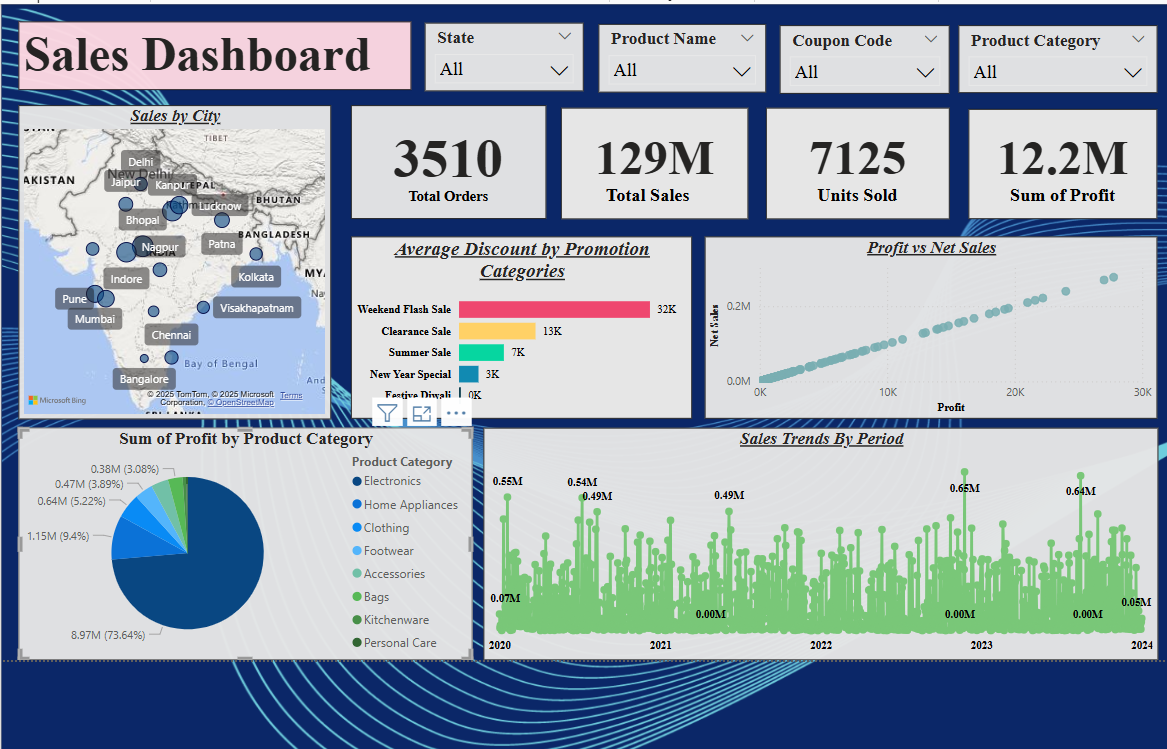

The page's visual inventory and layout, read from the dashboard file:
{"tool":"powerbi","page":{"name":"Overview","canvas":[1280,720],"ordinal":0},"visuals":[{"type":"lineChart","title":"Sales Trends By Period","fields":{"Y":["Sum(Fact table.Net Sales  )"],"Category":["Fact table.Date (dd/mm/yyyy).Variation.Date Hierarchy.Year"]},"box":[529.7,465.2,741,255.2],"z":0},{"type":"scatterChart","title":"Profit vs Net Sales  ","fields":{"X":["Fact table.Profit"],"Y":["Fact table.Net Sales  "]},"box":[772.6,255.2,496.7,200.3],"z":1000},{"type":"barChart","title":"Average Discount by Promotion Categories","fields":{"Y":["Avg(Fact table.Discount Value  )"],"Category":["Dim Promotion.Promotion Name"]},"box":[384.2,255.2,374.6,200.3],"z":2000},{"type":"map","title":"Sales by City","fields":{"Category":["Dim Customers.City"],"Size":["Sum(Fact table.Net Sales  )"]},"box":[19.2,111.1,343.1,344.4],"z":3000},{"type":"card","fields":{"Values":["Count(Fact table.Order ID)"]},"box":[384.2,111.1,214.1,124.9],"z":4000},{"type":"slicer","fields":{"Values":["Dim Customers.State"]},"box":[465.2,20.6,174.3,75.5],"z":5000},{"type":"slicer","fields":{"Values":["Dim Promotion.Coupon Code"]},"box":[854.9,23.3,186.6,75.5],"z":6000},{"type":"slicer","fields":{"Values":["Dim Product.Product Name"]},"box":[655.9,22,183.9,75.5],"z":7000},{"type":"card","fields":{"Values":["Sum(Fact table.Total Sales   )"]},"box":[614.8,113.9,205.8,122.1],"z":8000},{"type":"card","fields":{"Values":["Sum(Fact table.Units Sold)"]},"box":[839.8,113.9,201.7,122.1],"z":9000},{"type":"card","fields":{"Values":["Sum(Fact table.Profit)"]},"box":[1062.1,115.3,207.2,120.8],"z":10000},{"type":"pieChart","title":"Sum of Profit by Product Category","fields":{"Category":["Dim Product.Product Line"],"Y":["Sum(Fact table.Profit)"]},"box":[19.2,465.2,498.1,255.2],"z":11000},{"type":"textbox","box":[19.2,19.2,430.9,75.5],"z":12000},{"type":"slicer","fields":{"Values":["Dim Product.Product Line"]},"box":[1051.1,23.3,218.2,74.1],"z":13000}]}

Visuals, with their boxes in screenshot pixels (x1, y1, x2, y2):
"Sales Trends By Period" lineChart: <bbox>479, 421, 1146, 651</bbox>
"Profit vs Net Sales  " scatterChart: <bbox>698, 232, 1144, 413</bbox>
"Average Discount by Promotion Categories" barChart: <bbox>348, 232, 685, 413</bbox>
"Sales by City" map: <bbox>20, 103, 329, 413</bbox>
card - Count(Fact table.Order ID): <bbox>348, 103, 541, 215</bbox>
slicer - Dim Customers.State: <bbox>421, 22, 578, 89</bbox>
slicer - Dim Promotion.Coupon Code: <bbox>772, 24, 939, 92</bbox>
slicer - Dim Product.Product Name: <bbox>593, 23, 758, 91</bbox>
card - Sum(Fact table.Total Sales   ): <bbox>556, 105, 741, 215</bbox>
card - Sum(Fact table.Units Sold): <bbox>758, 105, 939, 215</bbox>
card - Sum(Fact table.Profit): <bbox>958, 107, 1144, 215</bbox>
"Sum of Profit by Product Category" pieChart: <bbox>20, 421, 468, 651</bbox>
textbox: <bbox>20, 20, 408, 88</bbox>
slicer - Dim Product.Product Line: <bbox>948, 24, 1144, 91</bbox>
